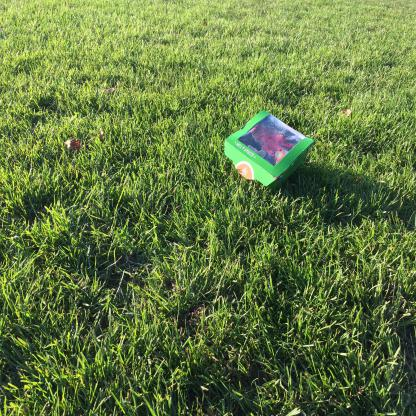karton: (224, 109, 314, 192)
